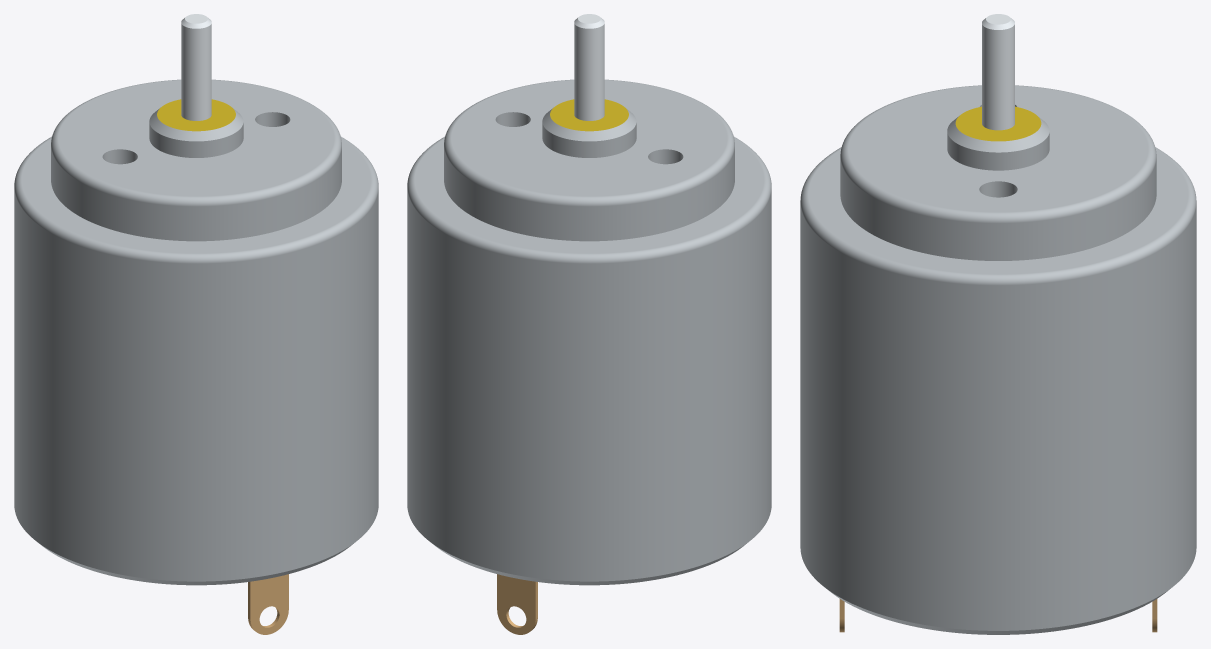
The model's file is RE-260RA_DC_motor.gltf.
3 views of the same model, side by side, from view 1: azimuth 30°, elevation 25°; view 2: azimuth 150°, elevation 25°; view 3: azimuth 270°, elevation 25° (orthographic). The views are drawn at different scales.
Parts seen in each view (by area): view 1: Part 1; view 2: Part 1; view 3: Part 1.
Boxes of the visible parts, x1,y1,x2,y2 form: Part 1: (14,14,378,634); Part 1: (407,14,771,634); Part 1: (800,14,1196,634).
Size of the model in its own units: 0.0238 by 0.0405 by 0.0238.
